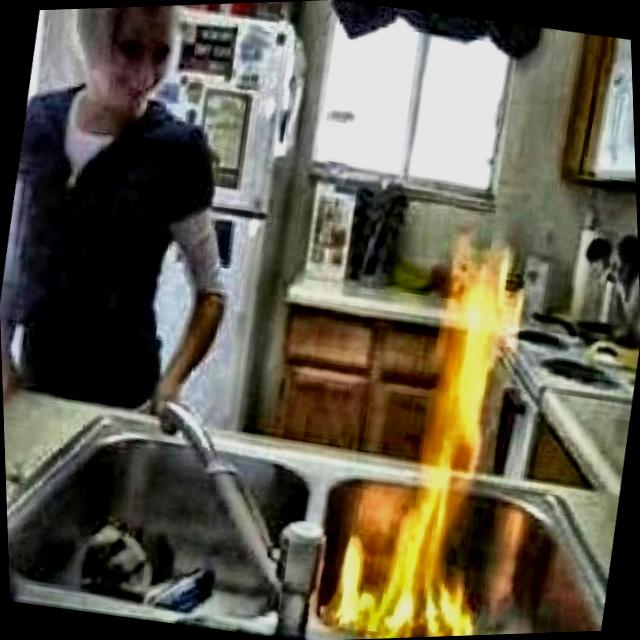fire: (302, 211, 557, 640)
